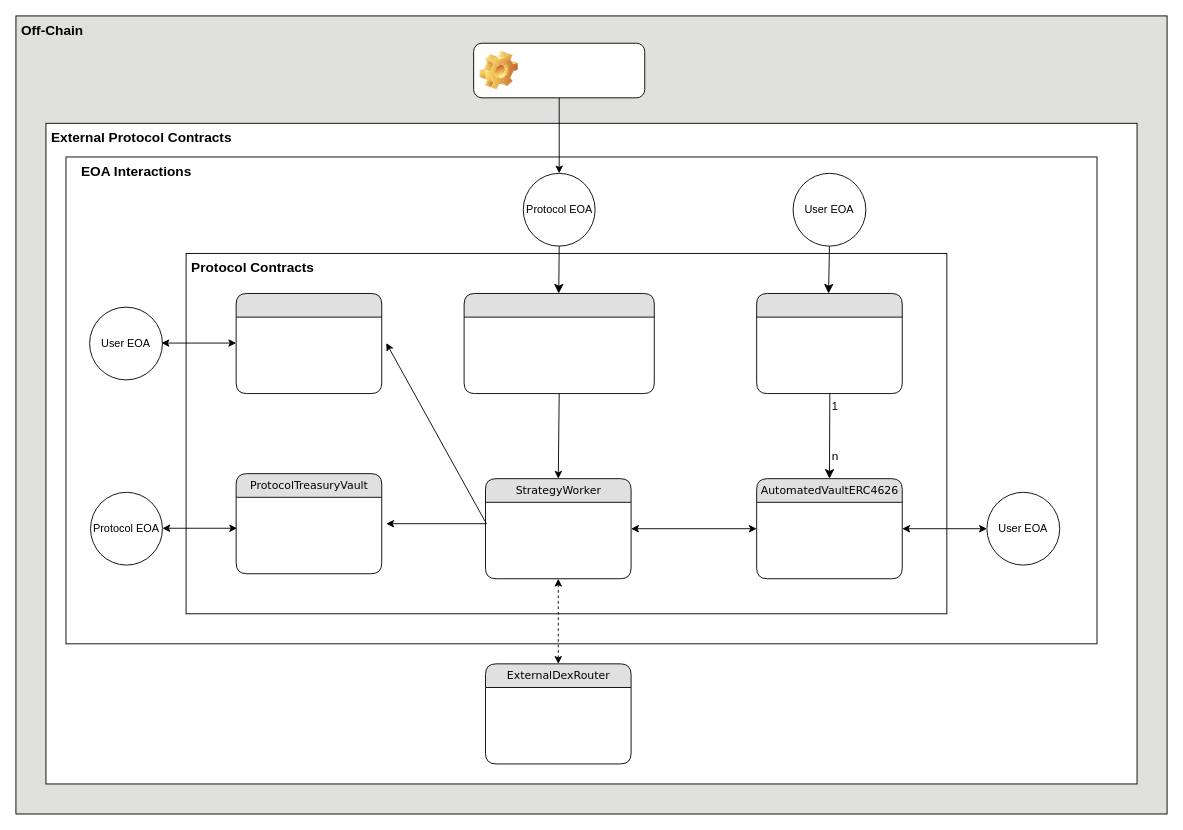
This 1183x830 diagram has some shape labels left out. Each missing label, with the box of its shape:
ActionTriggerBot: (473, 42, 645, 98)
AutomatedVaultFactory: (756, 293, 902, 394)
Controller: (463, 293, 654, 394)
StrategiesTreasuryVault: (235, 293, 382, 394)
